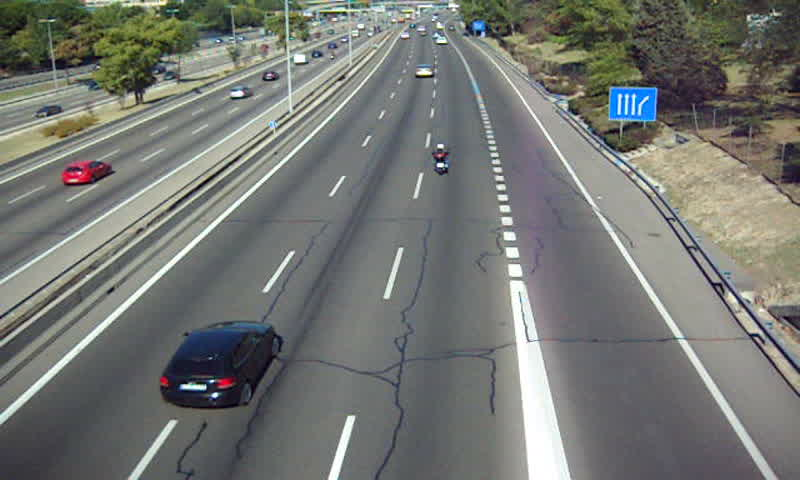car: (161, 318, 287, 410), (414, 64, 434, 80)
motorcycle: (431, 142, 452, 177)
